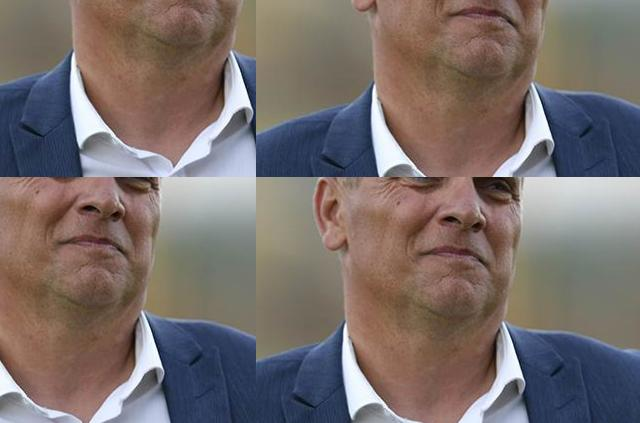crows_feet: (23, 201, 49, 239), (346, 0, 384, 20), (380, 177, 401, 194), (587, 0, 618, 11), (510, 188, 520, 214)
forehead: (38, 177, 96, 185)
gummy_smile: (414, 204, 440, 230)
masseter: (372, 112, 406, 172), (596, 82, 620, 146), (26, 258, 50, 304)
